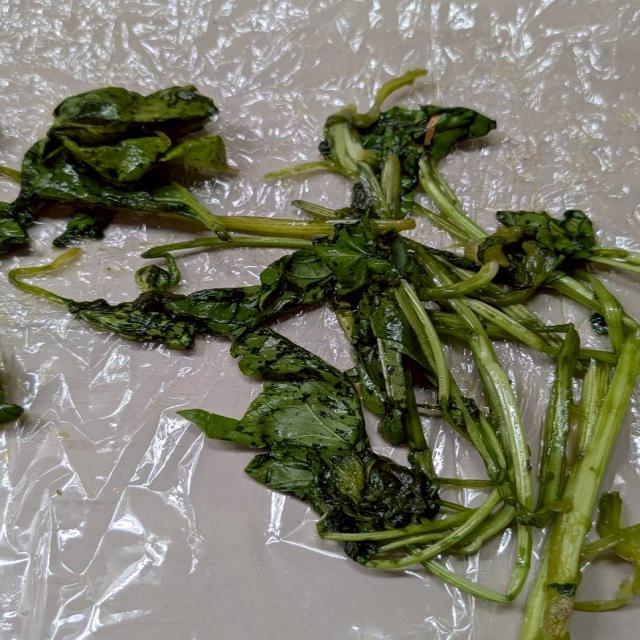rotten spinach: (14, 34, 638, 629), (80, 239, 442, 582), (308, 73, 600, 355), (50, 65, 268, 233)
